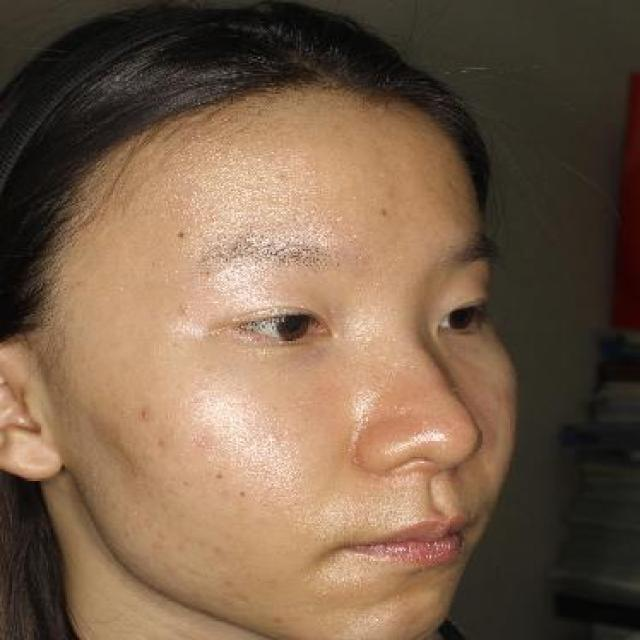darkspot: (192, 430, 218, 453), (133, 403, 155, 422), (172, 300, 192, 317), (220, 576, 237, 593), (155, 436, 170, 453), (211, 541, 226, 557), (271, 612, 286, 626)
nodules: (266, 171, 295, 191)
